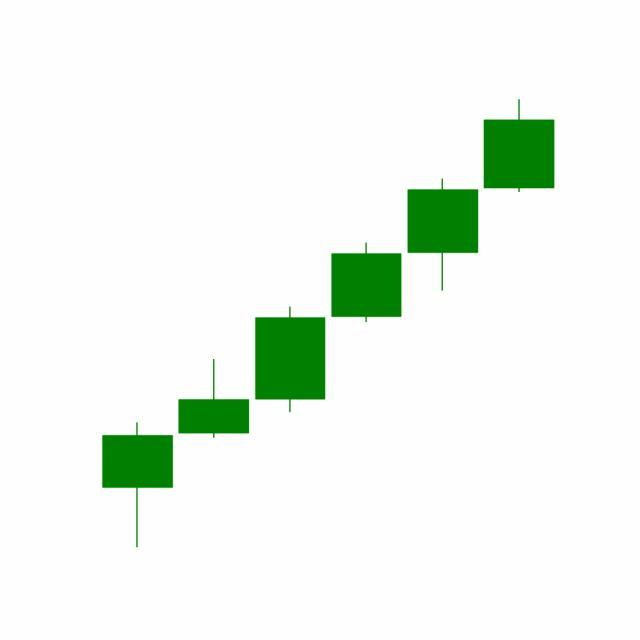Three Advancing White Soldiers: (252, 176, 482, 416)
